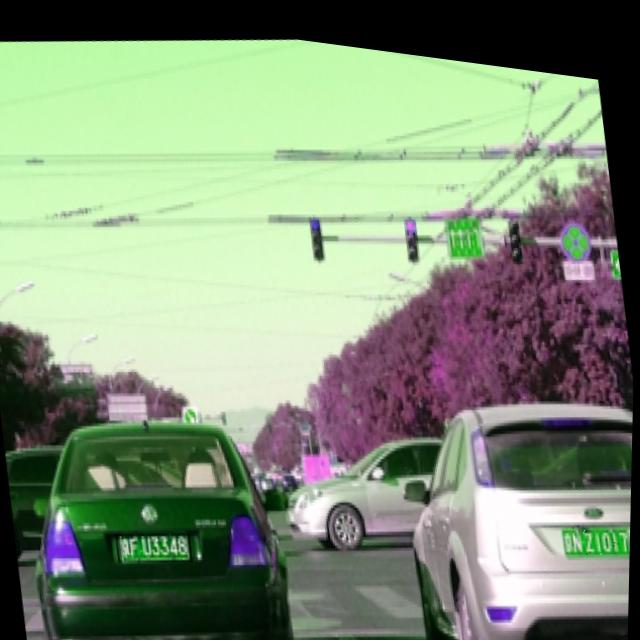license_plate: (117, 520, 196, 567), (564, 502, 632, 545)
